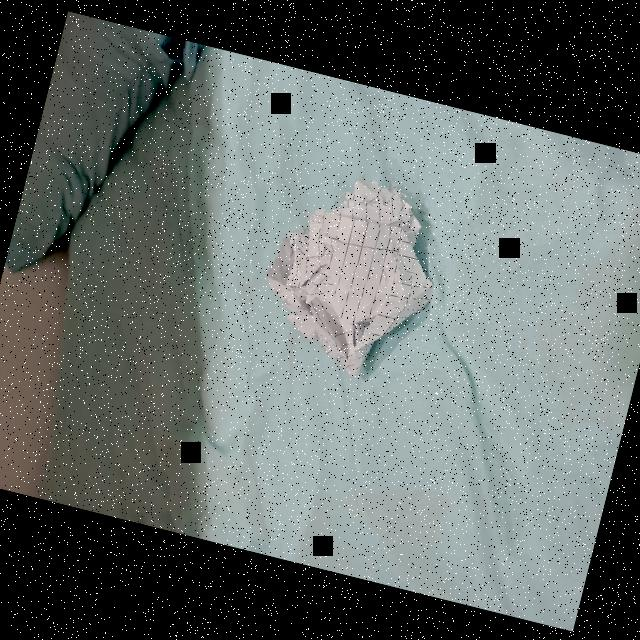scrap_paper: (255, 166, 450, 383)
